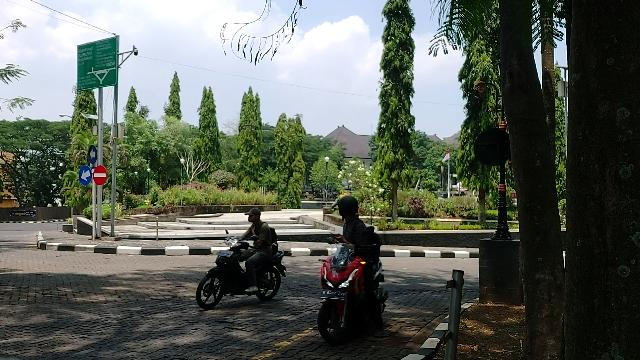helm: (331, 196, 360, 220)
motor: (316, 226, 390, 348), (197, 230, 288, 311)
non-helm: (245, 208, 262, 224)
